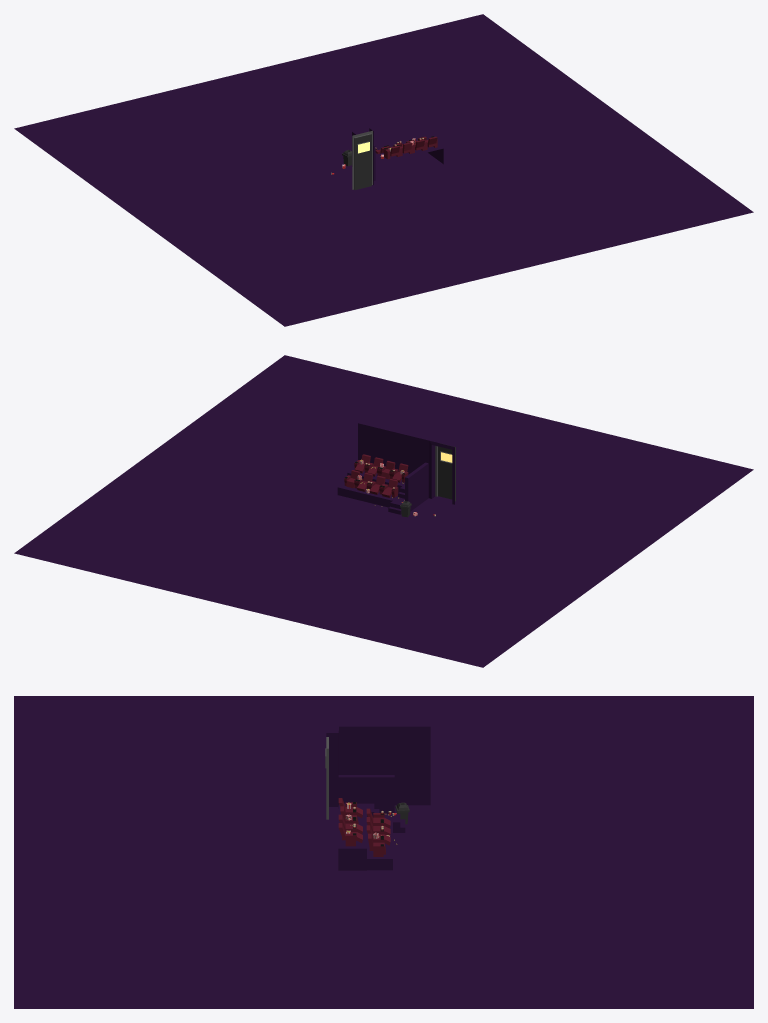
The model's file is popcorn.glb.
The picture shows the model from 3 angles, top to bottom: view 1: azimuth 30°, elevation 25°; view 2: azimuth 150°, elevation 25°; view 3: azimuth 270°, elevation 25°; orthographic projection. The views are drawn at different scales.
Visible parts, largest first — view 1: Level; view 2: Level; view 3: Level.
Boxes of the visible parts, left/top/right/bottom form: Level: left=14, top=14, right=753, bottom=326; Level: left=14, top=355, right=753, bottom=667; Level: left=14, top=696, right=753, bottom=1008.
Bounding box in the file's own units: 353 × 47.12 × 353.
